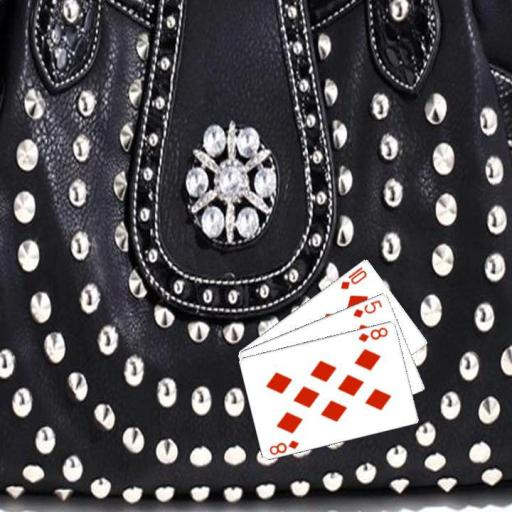10D: (337, 263, 368, 291)
5D: (350, 297, 384, 319)
8D: (355, 324, 390, 343), (266, 437, 301, 456)
